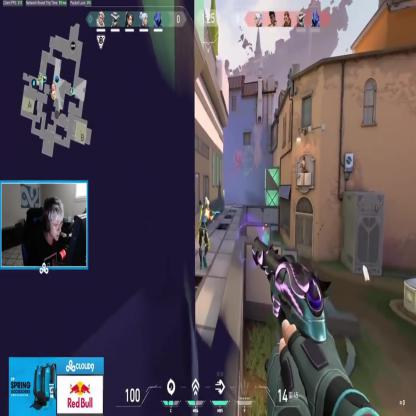enemy: (195, 193, 213, 272)
enemy_head: (204, 196, 210, 209)
